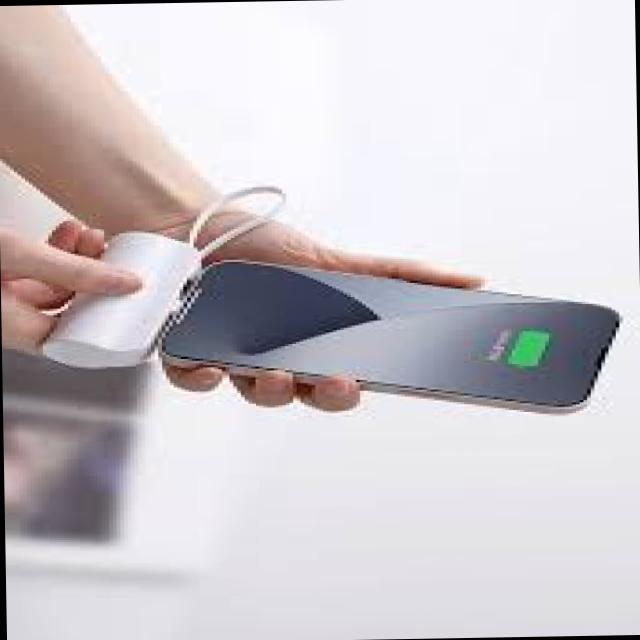portable-charger: (26, 232, 209, 373)
